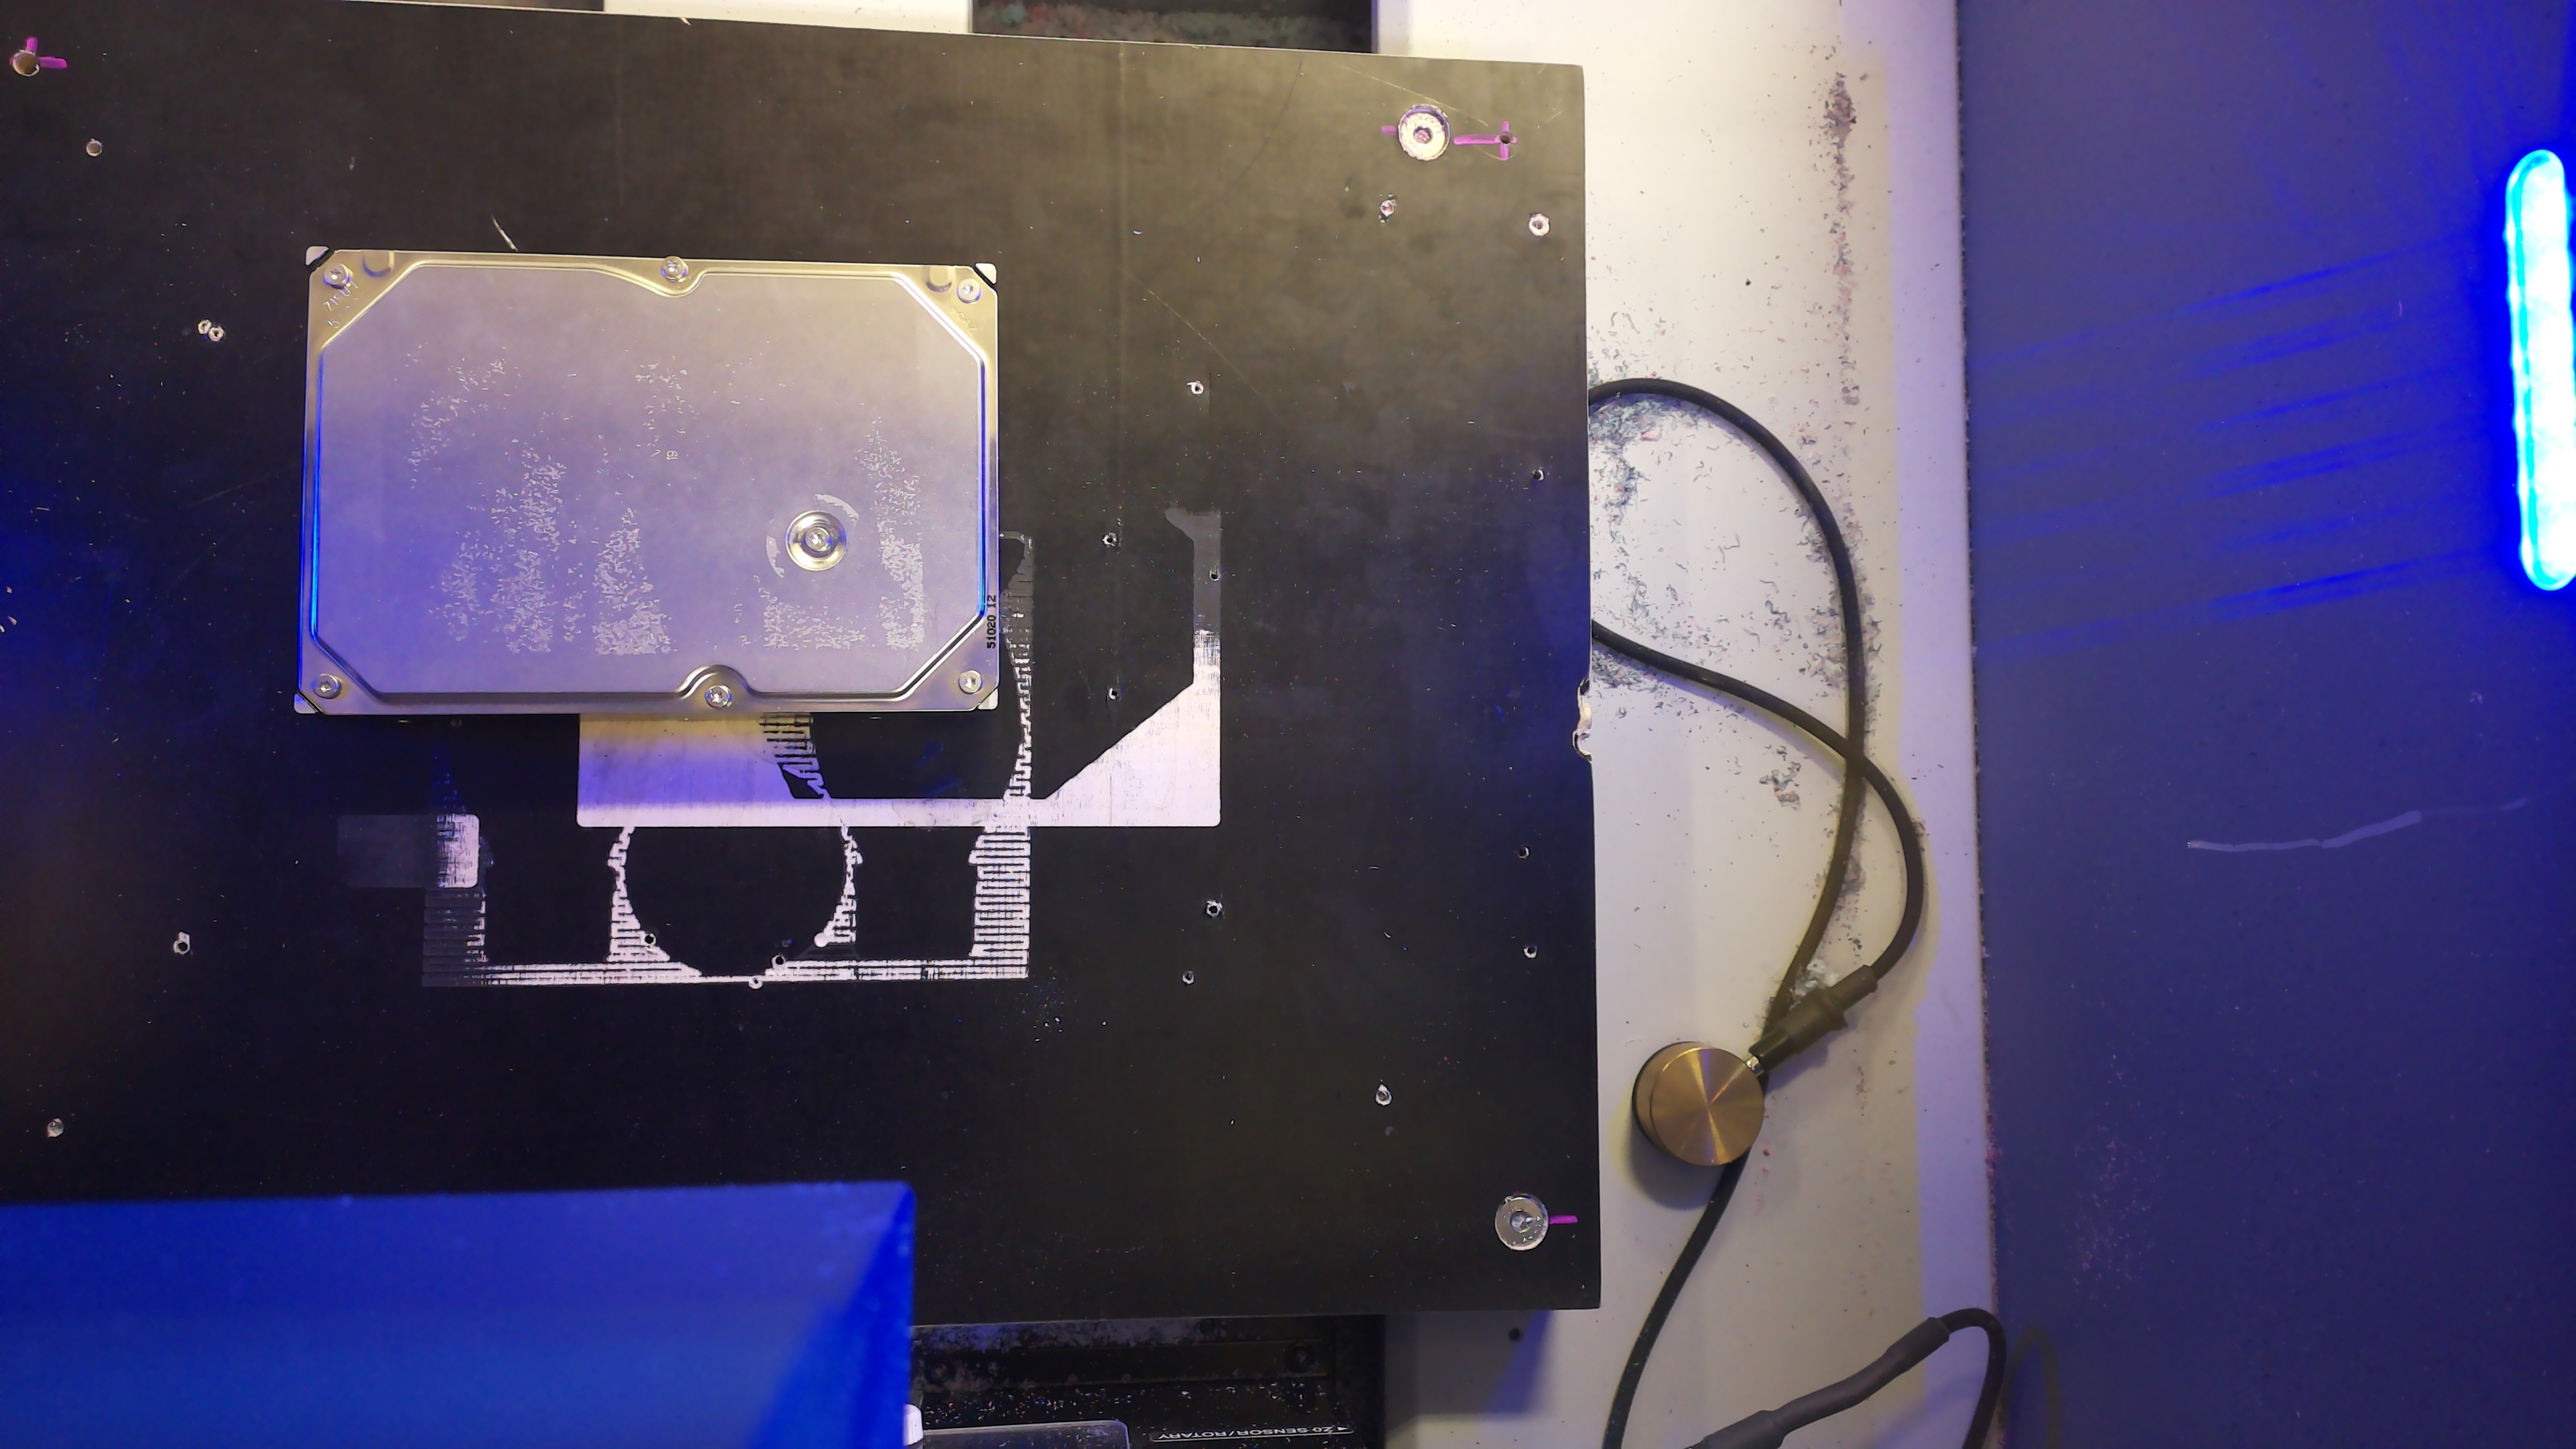Screw: (322, 262, 349, 288), (313, 672, 340, 699), (660, 255, 686, 280), (805, 527, 830, 552), (957, 278, 980, 303), (706, 685, 729, 708), (959, 671, 982, 694)
